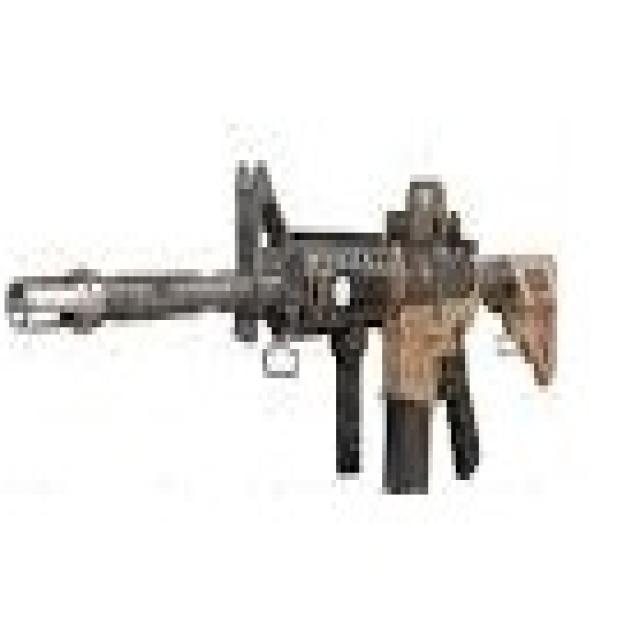rifle: (1, 138, 566, 520)
